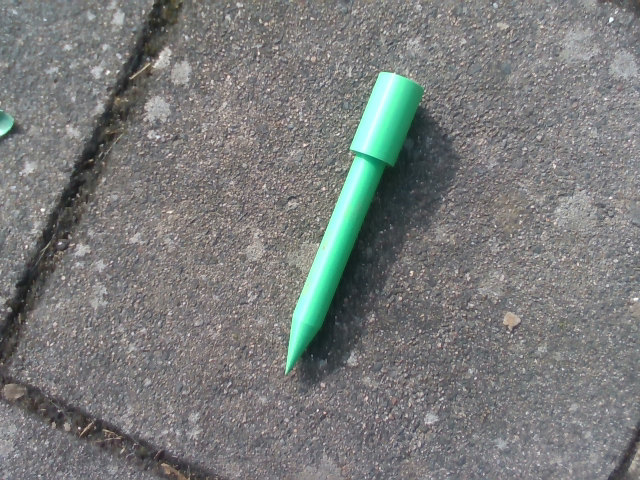Probe: (280, 63, 430, 380)
